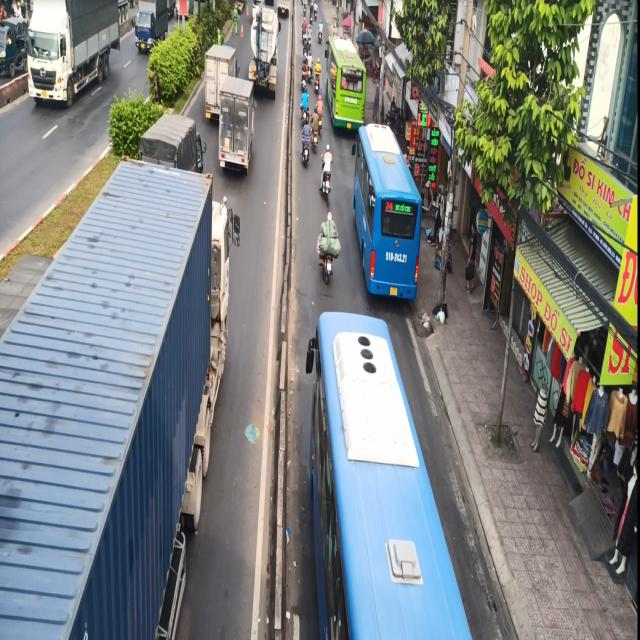bus: (304, 302, 478, 640), (353, 120, 422, 312), (326, 33, 368, 135)
motorbike: (320, 142, 337, 206)
truck: (216, 77, 255, 177), (248, 5, 284, 95)
